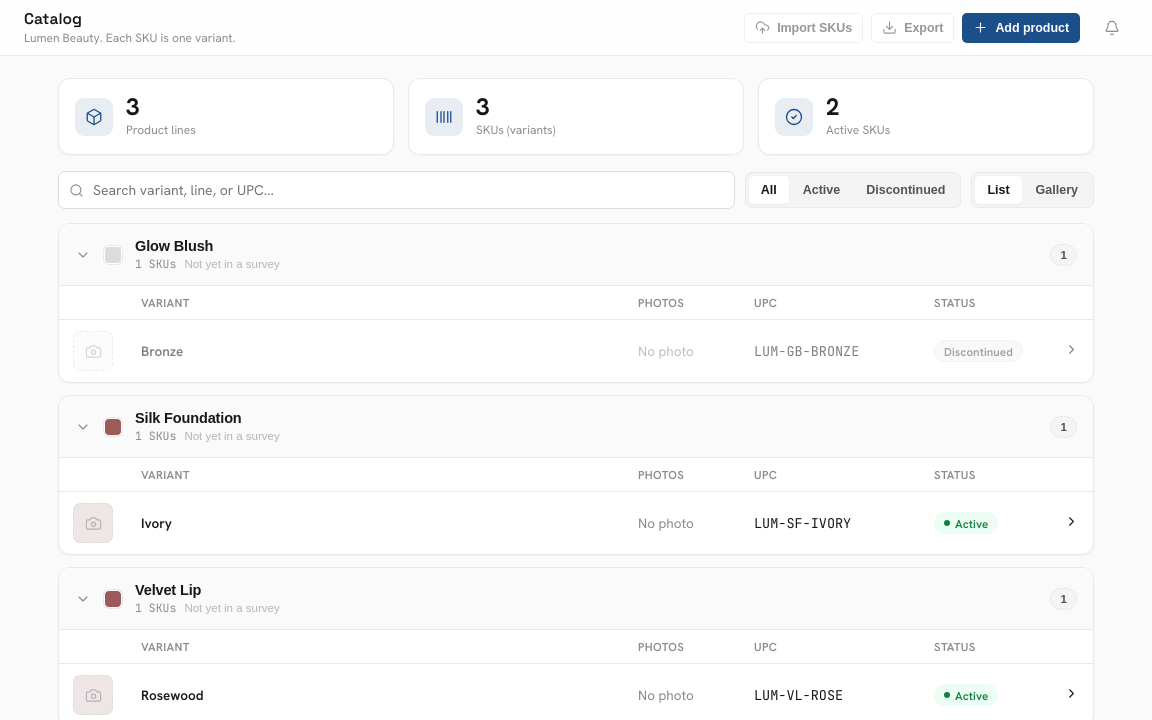
Test: Catalog (admin) › opens the add modal and creates, then re-reads the list
This screenshot has width=1152, height=720.
Click the button "Add product" at [1021, 28], box [962,12,1080,42]
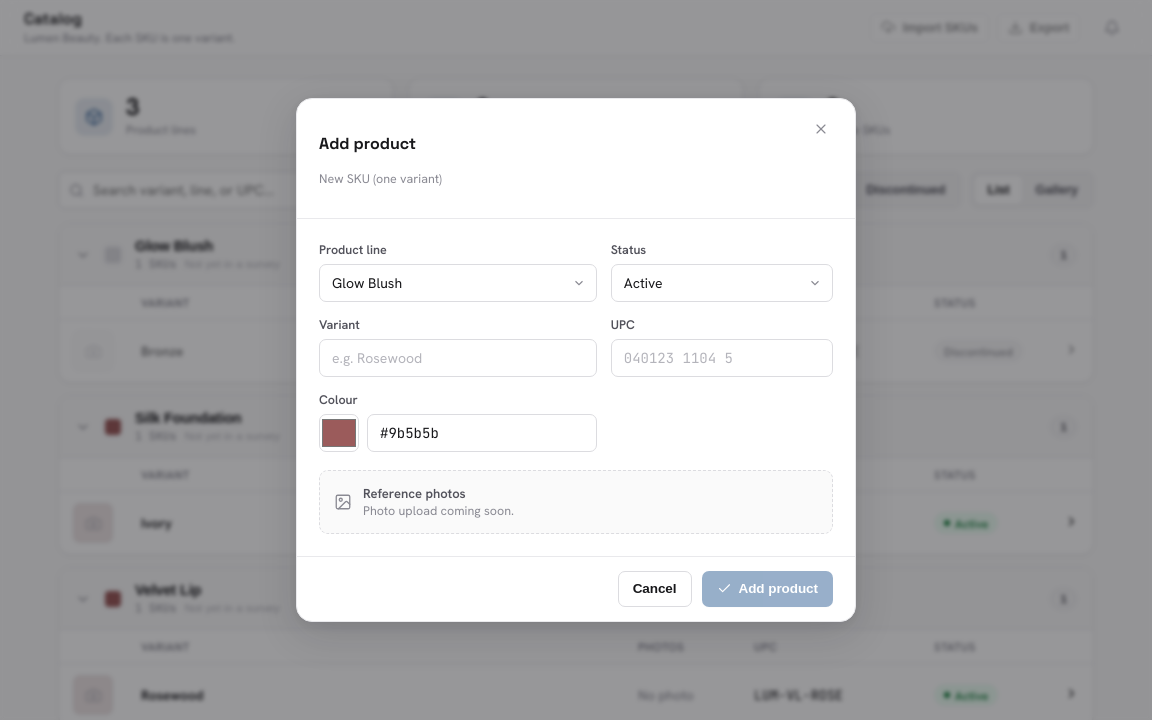
Type "Coral" into the field labelled "Variant" at [458, 358], box [319,339,597,377]
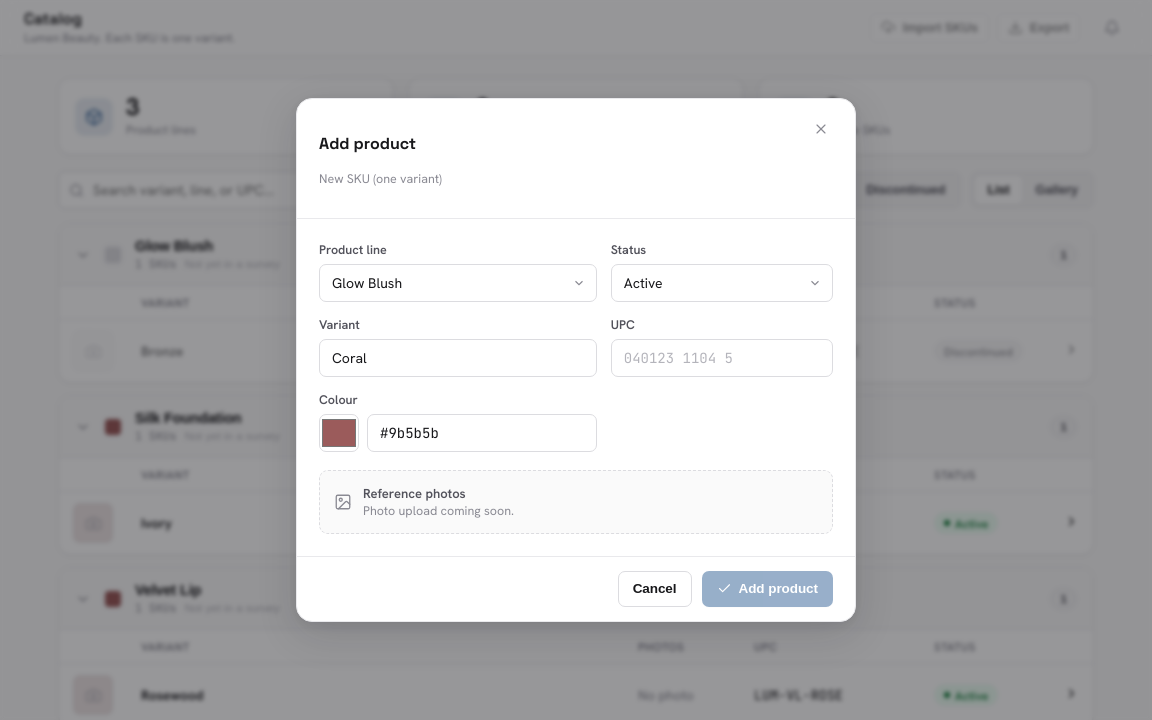
Type "LUM-VL-CORAL" into the field labelled "UPC" at [722, 358], box [611,339,833,377]
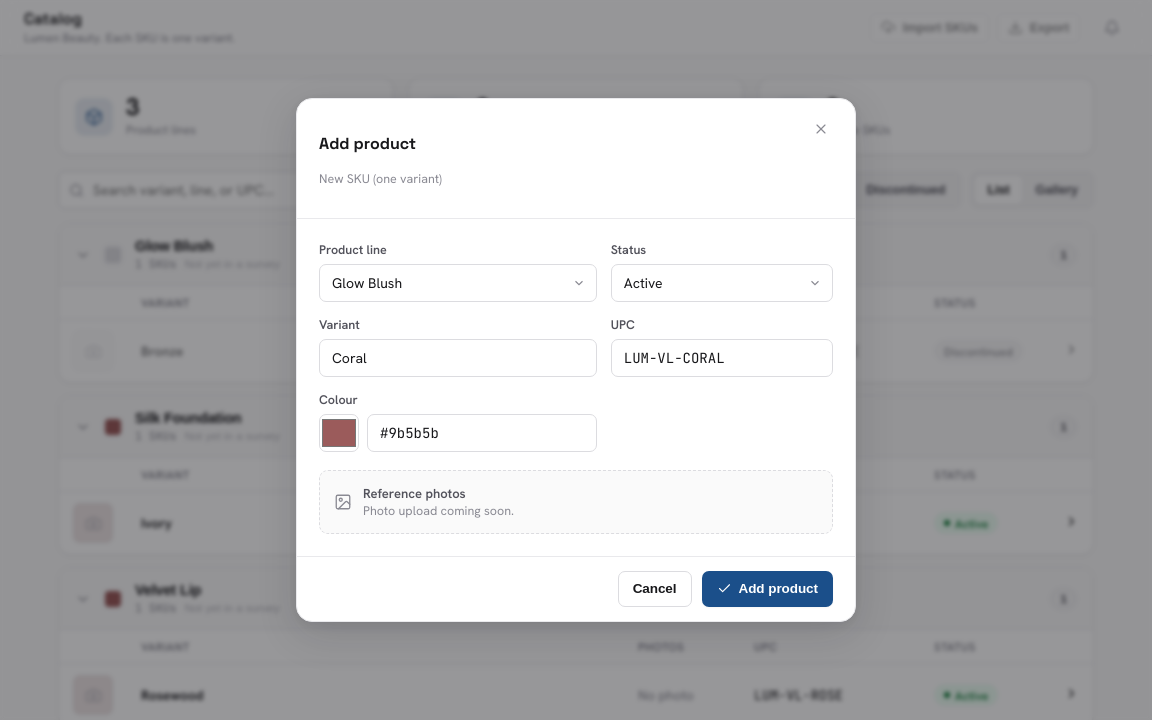
Click the button "Add product" at [767, 589], box [702,571,833,607]
(page scrolled)
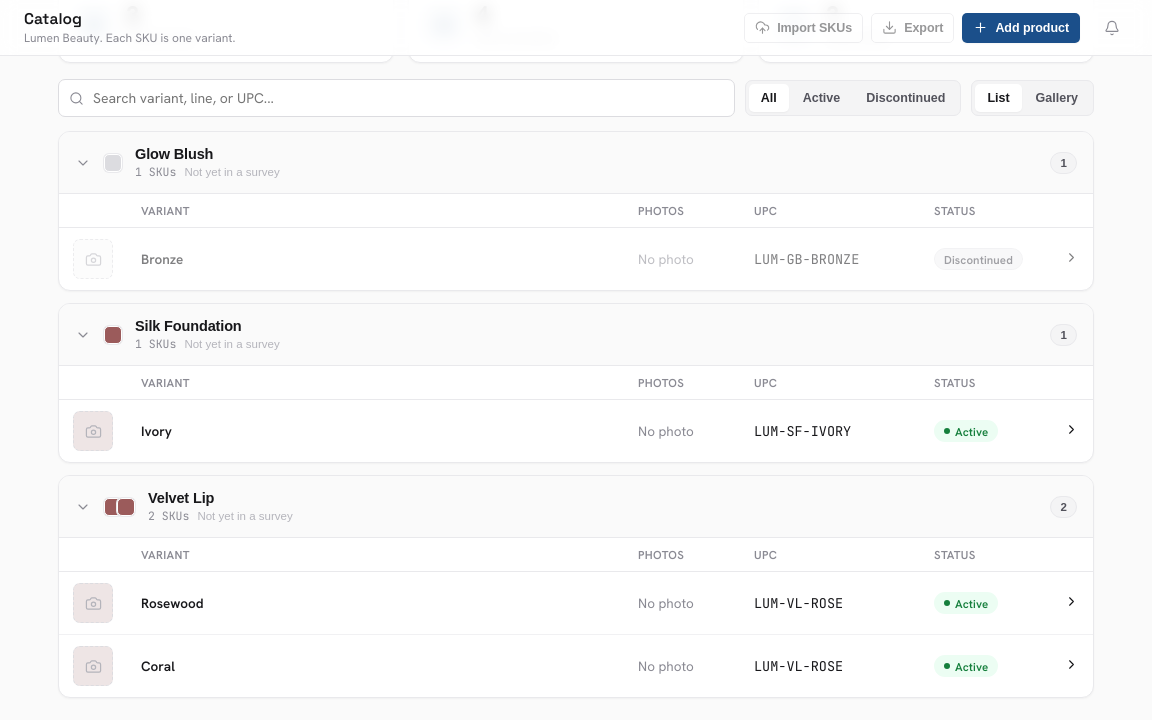
Check: the text "Coral" is shown, box [127,634,624,697]
